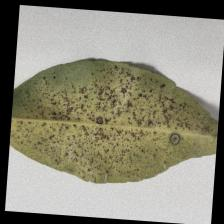canker: (45, 72, 190, 169)
